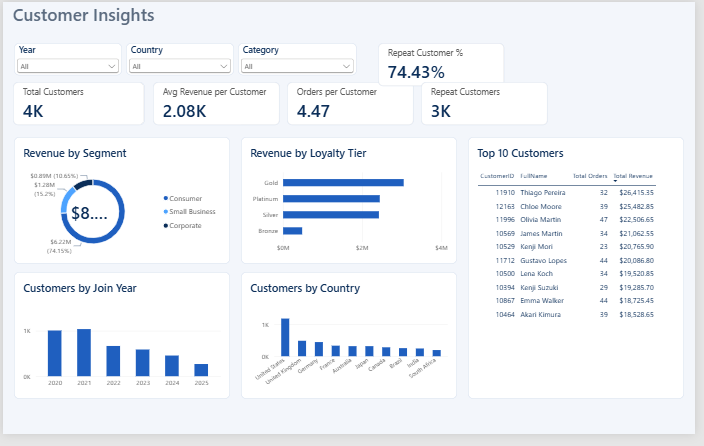

The dashboard page shown, as its layout file describes it:
{"tool":"powerbi","page":{"name":"Customer","canvas":[1280,800],"ordinal":1},"visuals":[{"type":"textbox","box":[9,0,505.2,50.3],"z":0},{"type":"slicer","fields":{"Values":["Calendar.Year"]},"box":[20,75,200,60],"z":1},{"type":"slicer","fields":{"Values":["Territories.Country"]},"box":[228,75,200,60],"z":2},{"type":"slicer","fields":{"Values":["Products.Category"]},"box":[436,75,220,60],"z":3},{"type":"cardVisual","fields":{"Data":["Customers.Orders per Customer"]},"box":[525.9,149,235,80],"z":4},{"type":"cardVisual","fields":{"Data":["Customers.Total Customers"]},"box":[19.2,149,243.6,80.1],"z":5},{"type":"cardVisual","fields":{"Data":["Customers.Repeat Customer %"]},"box":[694.2,75.5,234,80],"z":6},{"type":"cardVisual","fields":{"Data":["Customers.Repeat Customers"]},"box":[775,149,235,80],"z":7},{"type":"cardVisual","fields":{"Data":["Customers.Avg Revenue per Customer"]},"box":[276.9,149,235,80],"z":8},{"type":"donutChart","title":"Revenue by Segment","fields":{"Category":["Customers.Segment"],"Y":["Sales.Total Revenue"]},"box":[20,250,400,235],"z":9},{"type":"clusteredBarChart","title":"Revenue by Loyalty Tier","fields":{"Category":["Customers.LoyaltyTier"],"Y":["Sales.Total Revenue"]},"box":[440,250,400,235],"z":10},{"type":"columnChart","title":"Customers by Join Year","fields":{"Category":["Customers.JoinDate.Variation.Date Hierarchy.Year"],"Y":["Customers.Total Customers"]},"box":[20,500,400,235],"z":11},{"type":"clusteredColumnChart","title":"Customers by Country","fields":{"Category":["Customers.Country"],"Y":["Customers.Total Customers"]},"box":[440,500,400,235],"z":12},{"type":"tableEx","title":"Top 10 Customers","fields":{"Values":["Customers.CustomerID","Customers.FullName","Sales.Total Orders","Sales.Total Revenue"]},"box":[860.8,250,400,485],"z":13}]}

Visuals, with their boxes in screenshot pixels (x1, y1, x2, y2), scaled from the page's 1280x800 canvas onto the 704x446 screenshot:
textbox: box=[5, 0, 283, 28]
slicer - Calendar.Year: box=[11, 42, 121, 75]
slicer - Territories.Country: box=[125, 42, 235, 75]
slicer - Products.Category: box=[240, 42, 361, 75]
cardVisual - Customers.Orders per Customer: box=[289, 83, 418, 128]
cardVisual - Customers.Total Customers: box=[11, 83, 145, 128]
cardVisual - Customers.Repeat Customer %: box=[382, 42, 511, 87]
cardVisual - Customers.Repeat Customers: box=[426, 83, 556, 128]
cardVisual - Customers.Avg Revenue per Customer: box=[152, 83, 282, 128]
"Revenue by Segment" donutChart: box=[11, 139, 231, 270]
"Revenue by Loyalty Tier" clusteredBarChart: box=[242, 139, 462, 270]
"Customers by Join Year" columnChart: box=[11, 279, 231, 410]
"Customers by Country" clusteredColumnChart: box=[242, 279, 462, 410]
"Top 10 Customers" tableEx: box=[473, 139, 693, 410]
